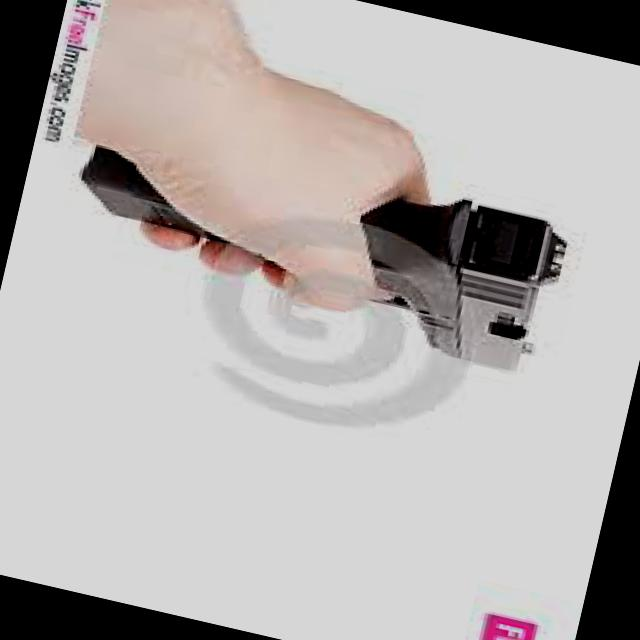handgun: (53, 106, 588, 377)
